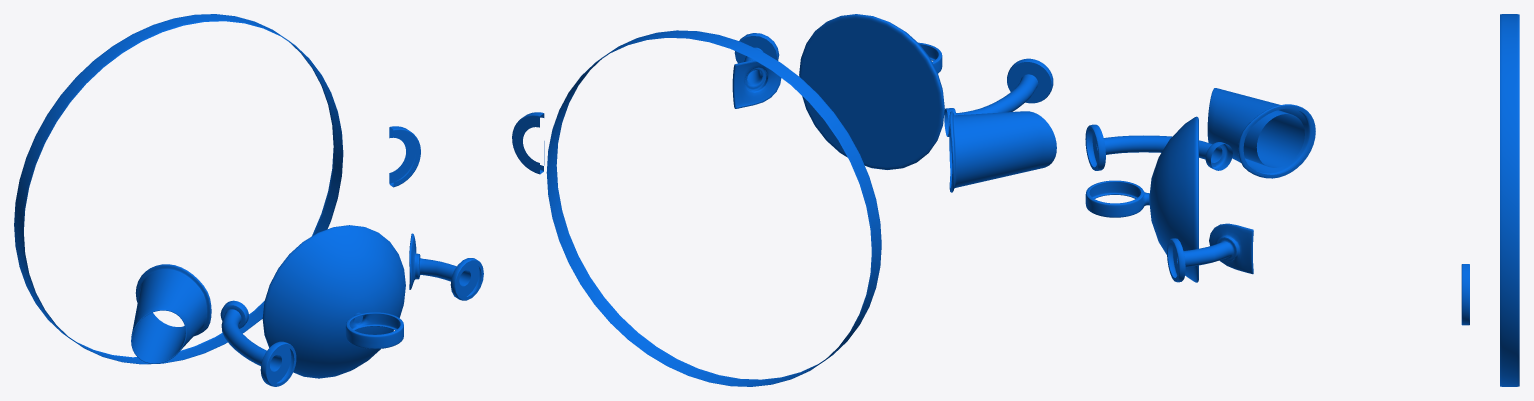
3 renders of one model, left to right at view 1: azimuth 30°, elevation 25°; view 2: azimuth 150°, elevation 25°; view 3: azimuth 270°, elevation 25°, orthographic.
Bounding box in the file's own units: 0.8776 × 0.6846 × 0.7958.
